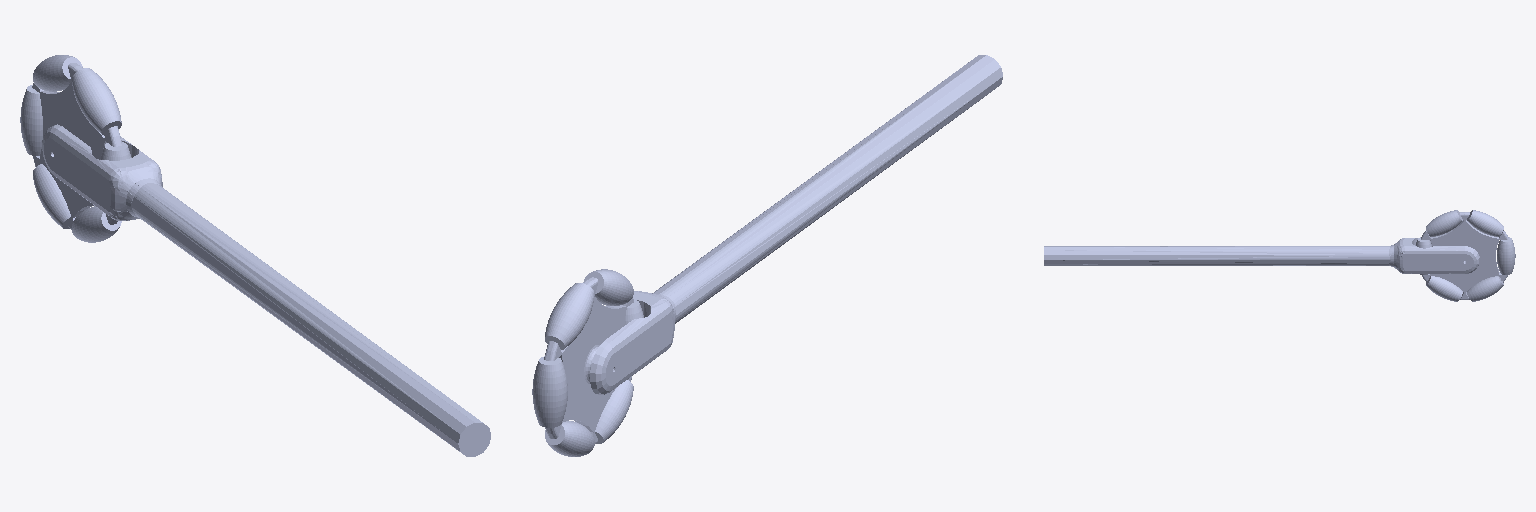
robot.urdf — stick_omni:
<?xml version="1.0" encoding="utf-8"?>
<!-- This URDF was automatically created by SolidWorks to URDF Exporter! Originally created by [author] ([email redacted])
     Commit Version: 1.6.0-1-g15f4949  Build Version: 1.6.7594.29634
     For more information, please see http://wiki.ros.org/sw_urdf_exporter -->
<robot
  name="stick_omni">
  <link
    name="base_link">
    <inertial>
      <origin
        xyz="-0.000218461816881267 -0.130880518203144 -9.77445062214105E-06"
        rpy="0 0 0" />
      <mass
        value="0.140487709142372" />
      <inertia
        ixx="0.00215345256468154"
        ixy="7.88296592674372E-11"
        ixz="3.19074097246875E-11"
        iyy="1.09867943830447E-05"
        iyz="2.7226738283184E-10"
        izz="0.00215501707365153" />
    </inertial>
    <visual>
      <origin
        xyz="0 0 0"
        rpy="0 0 0" />
      <geometry>
        <mesh
          filename="package://stick_omni/meshes/base_link.STL" />
      </geometry>
      <material
        name="">
        <color
          rgba="0.792156862745098 0.819607843137255 0.933333333333333 1" />
      </material>
    </visual>
    <collision>
      <origin
        xyz="0 0 0"
        rpy="0 0 0" />
      <geometry>
        <mesh
          filename="package://stick_omni/meshes/base_link.STL" />
      </geometry>
    </collision>
  </link>
  <link
    name="wheel">
    <inertial>
      <origin
        xyz="-9.75276575474299E-06 0.000218458818457238 -2.63677968348475E-16"
        rpy="0 0 0" />
      <mass
        value="0.0242061079937112" />
      <inertia
        ixx="7.57780889652512E-06"
        ixy="1.46719776468829E-22"
        ixz="1.34364342958016E-20"
        iyy="1.49067813941567E-05"
        iyz="1.52876646213088E-22"
        izz="7.5778088965251E-06" />
    </inertial>
    <visual>
      <origin
        xyz="0 0 0"
        rpy="0 0 0" />
      <geometry>
        <mesh
          filename="package://stick_omni/meshes/wheel.STL" />
      </geometry>
      <material
        name="">
        <color
          rgba="0.792156862745098 0.819607843137255 0.933333333333333 1" />
      </material>
    </visual>
    <collision>
      <origin
        xyz="0 0 0"
        rpy="0 0 0" />
      <geometry>
        <mesh
          filename="package://stick_omni/meshes/wheel.STL" />
      </geometry>
    </collision>
  </link>
  <joint
    name="joint_wheel"
    type="continuous">
    <origin
      xyz="0 0.064488 0"
      rpy="1.5708 -1.5708 0" />
    <parent
      link="base_link" />
    <child
      link="wheel" />
    <axis
      xyz="0 1 0" />
    <dynamics
      damping="0"
      friction="0" />
  </joint>
  <link
    name="roll_1">
    <inertial>
      <origin
        xyz="-4.8763828771059E-06 2.67147415300428E-16 -8.44614290037606E-06"
        rpy="0 0 0" />
      <mass
        value="0.00767853331420308" />
      <inertia
        ixx="6.66512132715133E-07"
        ixy="2.64697796016969E-23"
        ixz="-2.25197129694812E-07"
        iyy="7.96529756165164E-07"
        iyz="-3.97046694025453E-23"
        izz="4.06476885815071E-07" />
    </inertial>
    <visual>
      <origin
        xyz="0 0 0"
        rpy="0 0 0" />
      <geometry>
        <mesh
          filename="package://stick_omni/meshes/roll_1.STL" />
      </geometry>
      <material
        name="">
        <color
          rgba="0.792156862745098 0.819607843137255 0.933333333333333 1" />
      </material>
    </visual>
    <collision>
      <origin
        xyz="0 0 0"
        rpy="0 0 0" />
      <geometry>
        <mesh
          filename="package://stick_omni/meshes/roll_1.STL" />
      </geometry>
    </collision>
  </link>
  <joint
    name="joint_roll_1"
    type="continuous">
    <origin
      xyz="0 0.00021846 0.040684"
      rpy="-1.2898 0.44783 -0.98279" />
    <parent
      link="wheel" />
    <child
      link="roll_1" />
    <axis
      xyz="0.5 0 0.86603" />
    <dynamics
      damping="0"
      friction="0" />
  </joint>
  <link
    name="roll_2">
    <inertial>
      <origin
        xyz="-2.43819143912888E-06 -3.53883589099269E-16 -4.22307145093309E-06"
        rpy="0 0 0" />
      <mass
        value="0.00767853331420308" />
      <inertia
        ixx="6.66512132715138E-07"
        ixy="7.27918939046664E-23"
        ixz="-2.2519712969481E-07"
        iyy="7.96529756165167E-07"
        iyz="4.63221143029695E-23"
        izz="4.06476885815079E-07" />
    </inertial>
    <visual>
      <origin
        xyz="0 0 0"
        rpy="0 0 0" />
      <geometry>
        <mesh
          filename="package://stick_omni/meshes/roll_2.STL" />
      </geometry>
      <material
        name="">
        <color
          rgba="0.792156862745098 0.819607843137255 0.933333333333333 1" />
      </material>
    </visual>
    <collision>
      <origin
        xyz="0 0 0"
        rpy="0 0 0" />
      <geometry>
        <mesh
          filename="package://stick_omni/meshes/roll_2.STL" />
      </geometry>
    </collision>
  </link>
  <joint
    name="joint_roll_2"
    type="continuous">
    <origin
      xyz="-0.035241 0.00021846 0.020346"
      rpy="-0.56207 -0.38025 -1.176" />
    <parent
      link="wheel" />
    <child
      link="roll_2" />
    <axis
      xyz="0.5 0 0.86603" />
    <dynamics
      damping="0"
      friction="0" />
  </joint>
  <link
    name="roll_3">
    <inertial>
      <origin
        xyz="2.43819143794233E-06 -1.52655665885959E-16 4.22307145020451E-06"
        rpy="0 0 0" />
      <mass
        value="0.00767853331420308" />
      <inertia
        ixx="6.66512132715131E-07"
        ixy="1.32348898008484E-23"
        ixz="-2.25197129694813E-07"
        iyy="7.96529756165162E-07"
        iyz="3.30872245021211E-23"
        izz="4.06476885815068E-07" />
    </inertial>
    <visual>
      <origin
        xyz="0 0 0"
        rpy="0 0 0" />
      <geometry>
        <mesh
          filename="package://stick_omni/meshes/roll_3.STL" />
      </geometry>
      <material
        name="">
        <color
          rgba="0.792156862745098 0.819607843137255 0.933333333333333 1" />
      </material>
    </visual>
    <collision>
      <origin
        xyz="0 0 0"
        rpy="0 0 0" />
      <geometry>
        <mesh
          filename="package://stick_omni/meshes/roll_3.STL" />
      </geometry>
    </collision>
  </link>
  <joint
    name="joint_roll_3"
    type="continuous">
    <origin
      xyz="-0.035241 0.00021846 -0.020346"
      rpy="0.56207 -0.38025 -1.9656" />
    <parent
      link="wheel" />
    <child
      link="roll_3" />
    <axis
      xyz="0.5 0 0.86603" />
    <dynamics
      damping="0"
      friction="0" />
  </joint>
  <link
    name="roll_4">
    <inertial>
      <origin
        xyz="-4.87638287744591E-06 7.21644966006352E-16 -8.44614290076637E-06"
        rpy="0 0 0" />
      <mass
        value="0.00767853331420308" />
      <inertia
        ixx="6.66512132715135E-07"
        ixy="-2.64697796016969E-23"
        ixz="-2.25197129694812E-07"
        iyy="7.96529756165166E-07"
        iyz="-3.97046694025453E-23"
        izz="4.06476885815075E-07" />
    </inertial>
    <visual>
      <origin
        xyz="0 0 0"
        rpy="0 0 0" />
      <geometry>
        <mesh
          filename="package://stick_omni/meshes/roll_4.STL" />
      </geometry>
      <material
        name="">
        <color
          rgba="0.792156862745098 0.819607843137255 0.933333333333333 1" />
      </material>
    </visual>
    <collision>
      <origin
        xyz="0 0 0"
        rpy="0 0 0" />
      <geometry>
        <mesh
          filename="package://stick_omni/meshes/roll_4.STL" />
      </geometry>
    </collision>
  </link>
  <joint
    name="joint_roll_4"
    type="continuous">
    <origin
      xyz="0 0.00021846 -0.040684"
      rpy="-1.2898 0.44783 -0.98279" />
    <parent
      link="wheel" />
    <child
      link="roll_4" />
    <axis
      xyz="0.5 0 0.86603" />
    <dynamics
      damping="0"
      friction="0" />
  </joint>
  <link
    name="roll_5">
    <inertial>
      <origin
        xyz="-2.43819143845234E-06 -4.16333634234434E-17 -4.22307145057921E-06"
        rpy="0 0 0" />
      <mass
        value="0.00767853331420308" />
      <inertia
        ixx="6.66512132715133E-07"
        ixy="8.27180612553028E-23"
        ixz="-2.25197129694812E-07"
        iyy="7.96529756165164E-07"
        iyz="1.12496563307212E-22"
        izz="4.06476885815071E-07" />
    </inertial>
    <visual>
      <origin
        xyz="0 0 0"
        rpy="0 0 0" />
      <geometry>
        <mesh
          filename="package://stick_omni/meshes/roll_5.STL" />
      </geometry>
      <material
        name="">
        <color
          rgba="0.792156862745098 0.819607843137255 0.933333333333333 1" />
      </material>
    </visual>
    <collision>
      <origin
        xyz="0 0 0"
        rpy="0 0 0" />
      <geometry>
        <mesh
          filename="package://stick_omni/meshes/roll_5.STL" />
      </geometry>
    </collision>
  </link>
  <joint
    name="joint_roll_5"
    type="continuous">
    <origin
      xyz="0.035226 0.00021846 -0.020338"
      rpy="-0.56207 -0.38025 -1.176" />
    <parent
      link="wheel" />
    <child
      link="roll_5" />
    <axis
      xyz="0.5 0 0.86603" />
    <dynamics
      damping="0"
      friction="0" />
  </joint>
  <link
    name="roll_6">
    <inertial>
      <origin
        xyz="2.43819143846274E-06 5.13478148889135E-16 4.22307144997552E-06"
        rpy="0 0 0" />
      <mass
        value="0.00767853331420308" />
      <inertia
        ixx="6.66512132715133E-07"
        ixy="-4.96308367531817E-23"
        ixz="-2.25197129694812E-07"
        iyy="7.96529756165164E-07"
        iyz="-5.29395592033938E-23"
        izz="4.06476885815071E-07" />
    </inertial>
    <visual>
      <origin
        xyz="0 0 0"
        rpy="0 0 0" />
      <geometry>
        <mesh
          filename="package://stick_omni/meshes/roll_6.STL" />
      </geometry>
      <material
        name="">
        <color
          rgba="0.792156862745098 0.819607843137255 0.933333333333333 1" />
      </material>
    </visual>
    <collision>
      <origin
        xyz="0 0 0"
        rpy="0 0 0" />
      <geometry>
        <mesh
          filename="package://stick_omni/meshes/roll_6.STL" />
      </geometry>
    </collision>
  </link>
  <joint
    name="join_roll_6"
    type="continuous">
    <origin
      xyz="0.035226 0.00021846 0.020338"
      rpy="0.56207 -0.38025 -1.9656" />
    <parent
      link="wheel" />
    <child
      link="roll_6" />
    <axis
      xyz="0.5 0 0.86603" />
    <dynamics
      damping="0"
      friction="0" />
  </joint>
</robot>

--- Render facts (derived) ---
3 views of the same robot in one strip: view 1: azimuth 30°, elevation 25°; view 2: azimuth 150°, elevation 25°; view 3: azimuth 270°, elevation 25° (orthographic).
Robot: stick_omni — 8 links, 7 joints (7 continuous); root link base_link; default pose: all joints at 0.
Visible links, largest first — view 1: base_link, wheel, roll_6, roll_4, roll_3, roll_5, roll_2; view 2: base_link, wheel, roll_4, roll_5, roll_2, roll_3, roll_6; view 3: base_link, wheel, roll_5, roll_6, roll_3, roll_2, roll_4.
Boxes of the visible links, bbox=[...] form: base_link: bbox=[42, 124, 490, 456]; wheel: bbox=[32, 63, 121, 229]; roll_6: bbox=[72, 68, 121, 135]; roll_4: bbox=[20, 85, 42, 155]; roll_3: bbox=[33, 164, 71, 228]; roll_5: bbox=[33, 55, 82, 91]; roll_2: bbox=[72, 206, 121, 242]; base_link: bbox=[590, 55, 1002, 394]; wheel: bbox=[544, 277, 633, 443]; roll_4: bbox=[532, 356, 567, 427]; roll_5: bbox=[545, 283, 594, 349]; roll_2: bbox=[595, 380, 633, 443]; roll_3: bbox=[545, 421, 594, 456]; roll_6: bbox=[584, 269, 633, 305]; base_link: bbox=[1044, 238, 1479, 273]; wheel: bbox=[1421, 212, 1508, 299]; roll_5: bbox=[1467, 210, 1503, 236]; roll_6: bbox=[1426, 210, 1462, 236]; roll_3: bbox=[1467, 276, 1503, 301]; roll_2: bbox=[1426, 276, 1462, 301]; roll_4: bbox=[1497, 237, 1515, 274].
Bounding box of the posed robot: 0.03 × 0.4649 × 0.0988 m (x, y, z).
Meshes: 8 distinct files referenced, 8 mesh visuals loaded (8 binary STL).